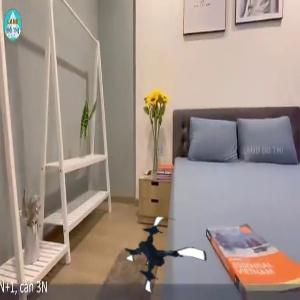drone: (123, 215, 208, 300)
